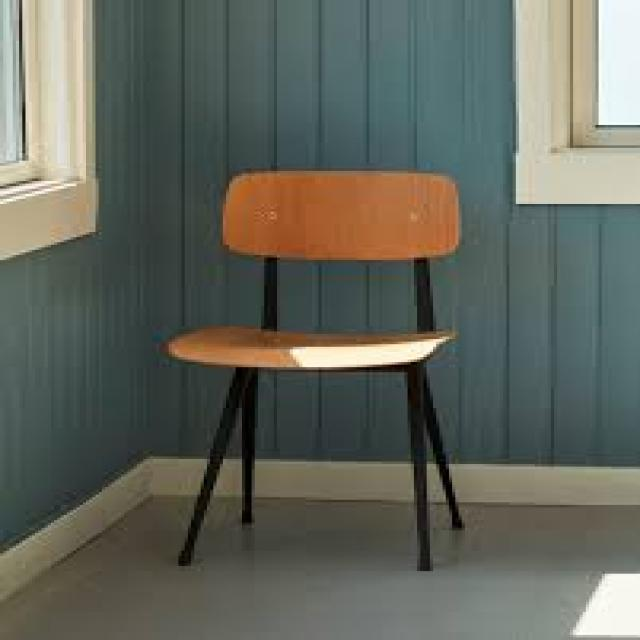chair: (67, 105, 560, 627)
